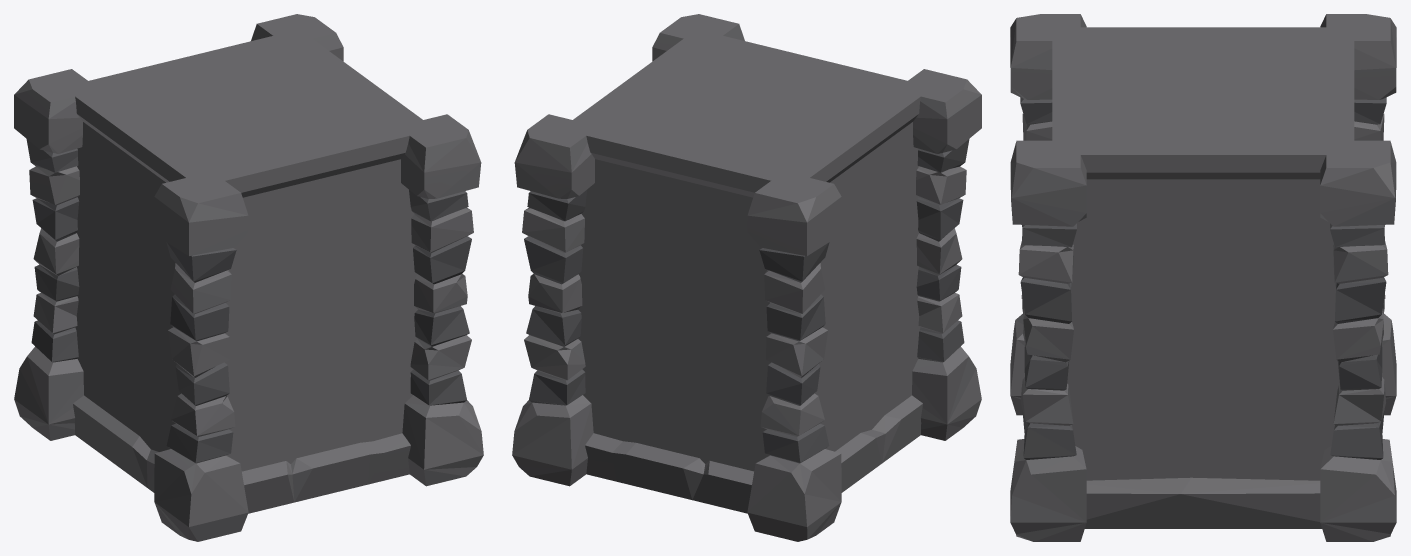
The model's file is SM_Bld_Church_TowerBase_01_Lite.gltf.
3 renders of one model, left to right at view 1: azimuth 30°, elevation 25°; view 2: azimuth 150°, elevation 25°; view 3: azimuth 270°, elevation 25°, orthographic. The views are drawn at different scales.
Visible parts, largest first — view 1: SM_Bld_Church_TowerBase_01_Lite; view 2: SM_Bld_Church_TowerBase_01_Lite; view 3: SM_Bld_Church_TowerBase_01_Lite.
Boxes of the visible parts, box(x1,y1,x2,y2) form: SM_Bld_Church_TowerBase_01_Lite: box(14, 14, 483, 541); SM_Bld_Church_TowerBase_01_Lite: box(512, 14, 981, 541); SM_Bld_Church_TowerBase_01_Lite: box(1010, 14, 1396, 541).
Size of the model in its own units: 2.97 by 3.26 by 3.05.
1 material, 1 textured.
